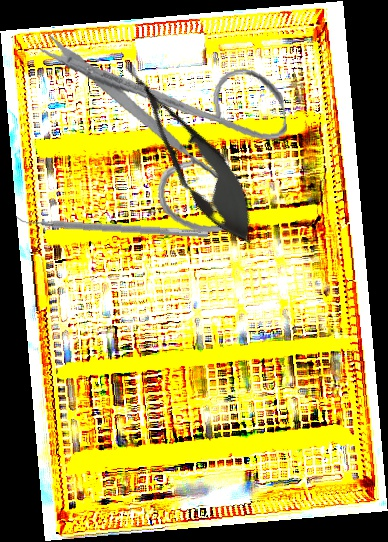Iris Scissors: (37, 4, 299, 251)
Micro Scissor: (105, 48, 274, 258)
Spatula Surgical: (15, 210, 209, 239)
